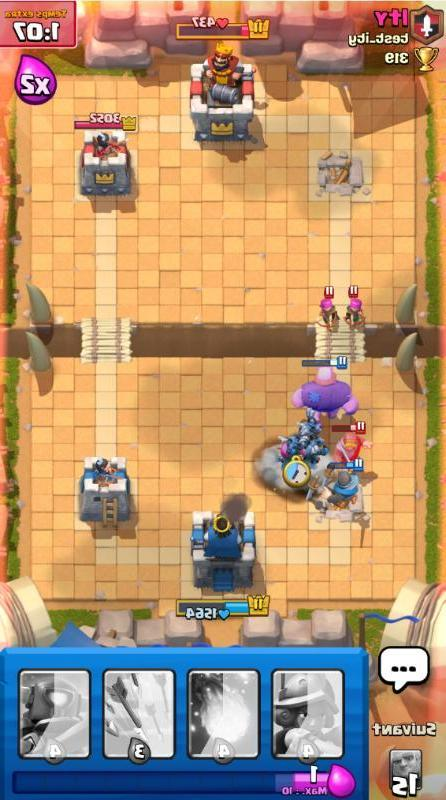enemy_archers: (343, 286, 367, 327), (316, 286, 339, 328)
player_giant: (287, 362, 362, 421)
player_knight: (321, 463, 365, 509)
player_minions: (295, 411, 326, 443), (276, 433, 305, 464), (299, 435, 329, 464)
